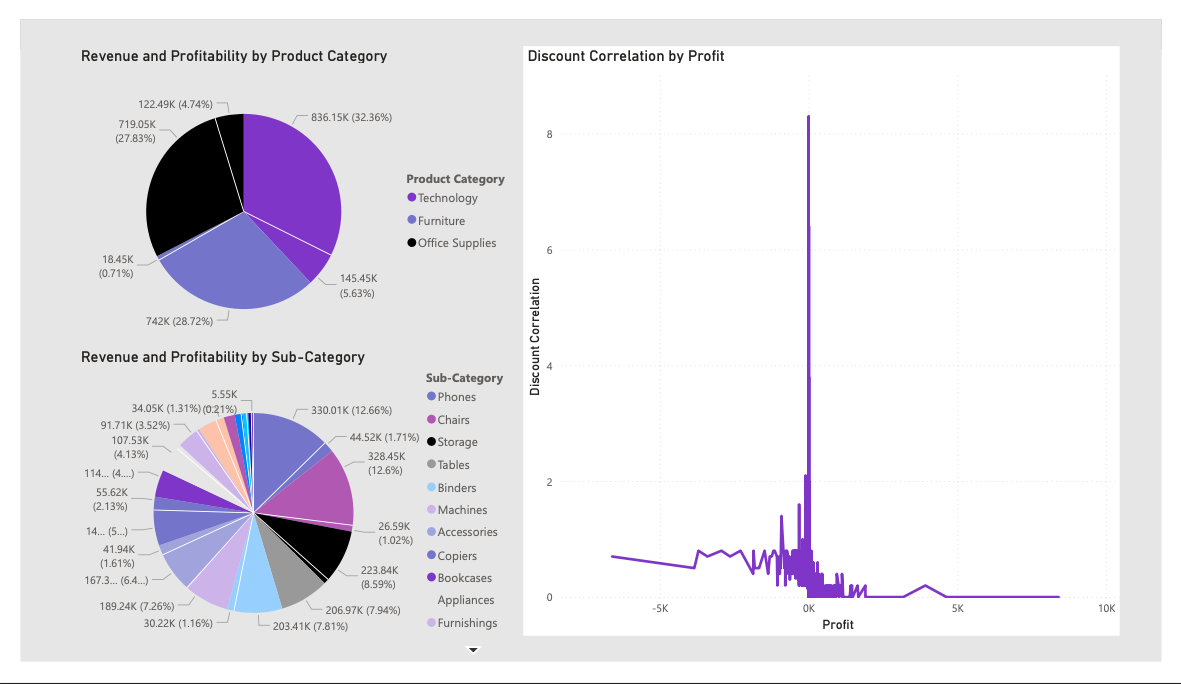

What the dashboard file says about the page in this screenshot:
{"tool":"powerbi","page":{"name":"Page 3","canvas":[1280,720],"ordinal":2},"visuals":[{"type":"lineChart","fields":{"Category":["Orders.Profit"],"Y":["Sum(Orders.Discount)"]},"box":[564,30,669,661],"z":4000},{"type":"pieChart","fields":{"Category":["Products.Category"],"Y":["Sum(Orders.Sales)","Sum(Orders.Profit)"]},"box":[63,30,501,352],"z":5000},{"type":"pieChart","fields":{"Category":["Products.Sub-Category"],"Y":["Sum(Orders.Sales)","Sum(Orders.Profit)"]},"box":[63,368,501,352],"z":6000}]}

Visuals, with their boxes in screenshot pixels (x1, y1, x2, y2), scaled from the page's 1280x720 canvas onto the 1181x684 screenshot:
lineChart - Orders.Profit x Sum(Orders.Discount): <bbox>520, 28, 1138, 656</bbox>
pieChart - Products.Category x Sum(Orders.Sales): <bbox>58, 28, 520, 363</bbox>
pieChart - Products.Sub-Category x Sum(Orders.Sales): <bbox>58, 350, 520, 683</bbox>
